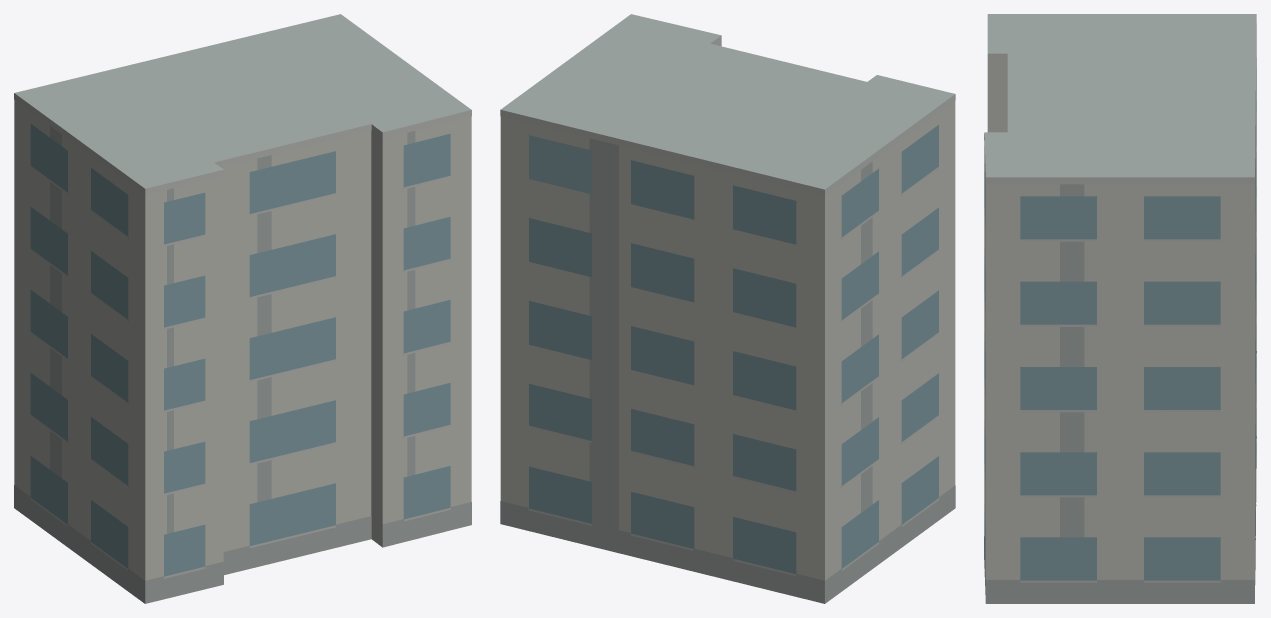
Rendered from survey-upis-32953655.glb.
The picture shows the model from 3 angles, left to right: view 1: azimuth 30°, elevation 25°; view 2: azimuth 150°, elevation 25°; view 3: azimuth 270°, elevation 25°; orthographic projection. The views are drawn at different scales.
Visible parts, largest first — view 1: survey-upis-32953655.tmp; view 2: survey-upis-32953655.tmp; view 3: survey-upis-32953655.tmp.
Part boxes in pixels (x1,y1,x2,y2): survey-upis-32953655.tmp: [14, 14, 471, 603]; survey-upis-32953655.tmp: [500, 14, 955, 603]; survey-upis-32953655.tmp: [984, 14, 1256, 603].
Bounding box in the file's own units: 12.55 × 15.25 × 8.84.
